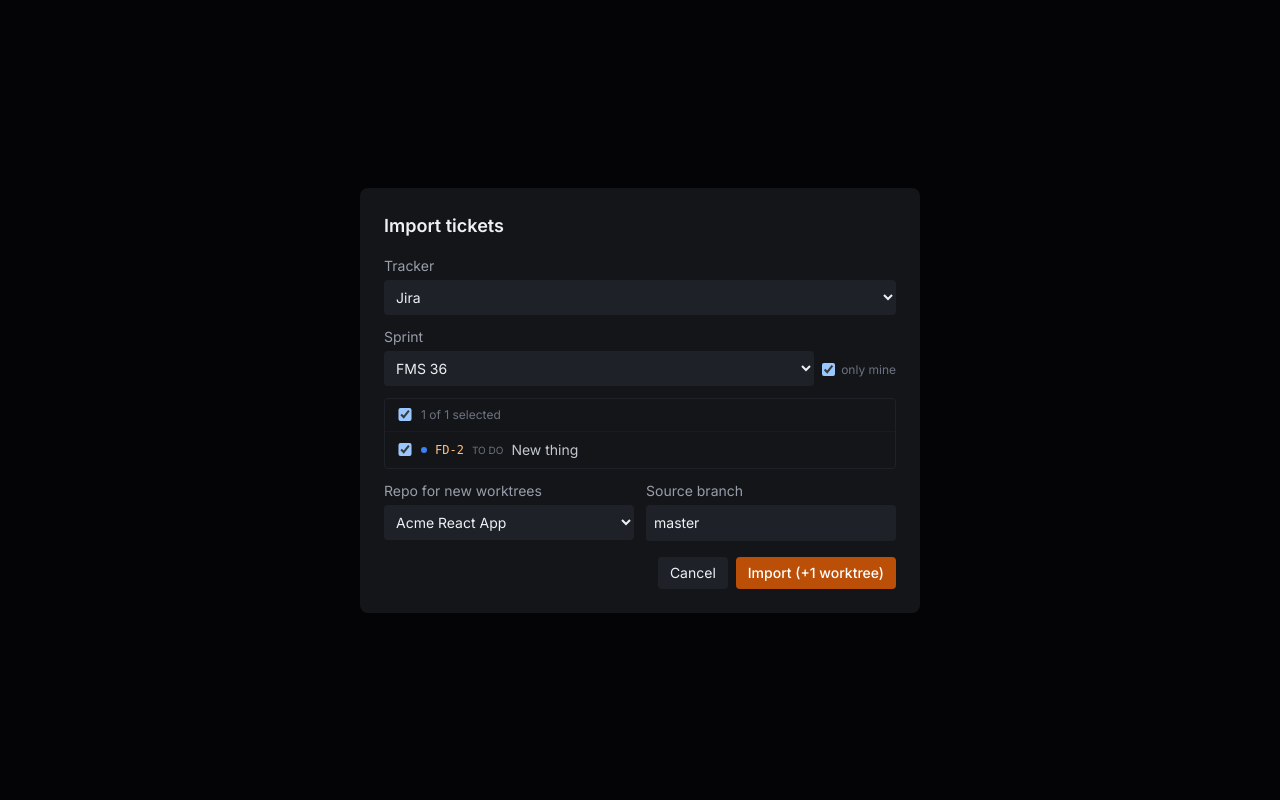
ImportTicketsDialog › two connected providers: shows a tracker select; switching to Linear asks for cycles without a project
Check: the text "Sprint" is shown, box [384,328,423,344]
Select "Linear" in the dropdown labelled "Tracker" at (640, 297), box [384,280,896,314]
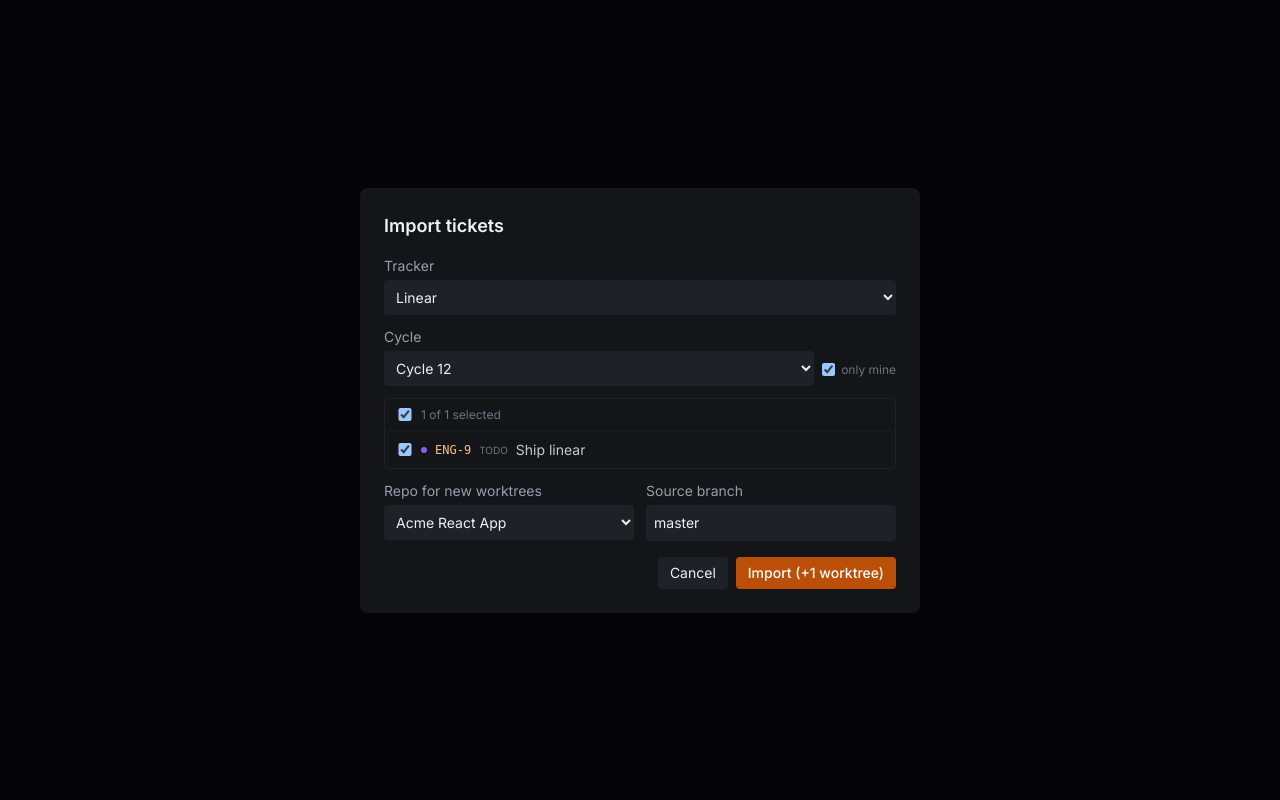
Check: the text "Cycle" is shown, box [384,328,421,344]
Check: the text "Ship linear" is shown, box [516,440,586,460]
Check: the element titled "Linear" is shown, box [421,446,427,452]
